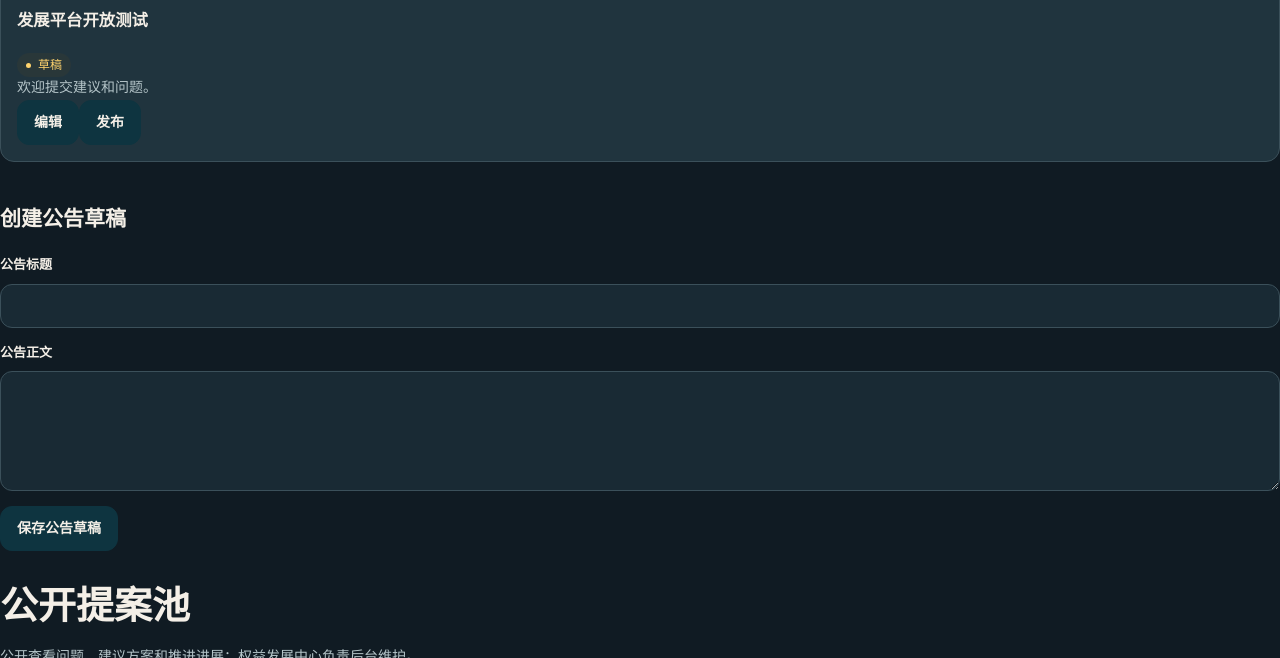
Scenario: InformationPage › shows announcement lifecycle and consultation handling actions to a manager
The image size is (1280, 658).
Click the button with aria-label "发布 发展平台开放测试". click: (110, 122)
box: [79,100,141,145]
(page scrolled)
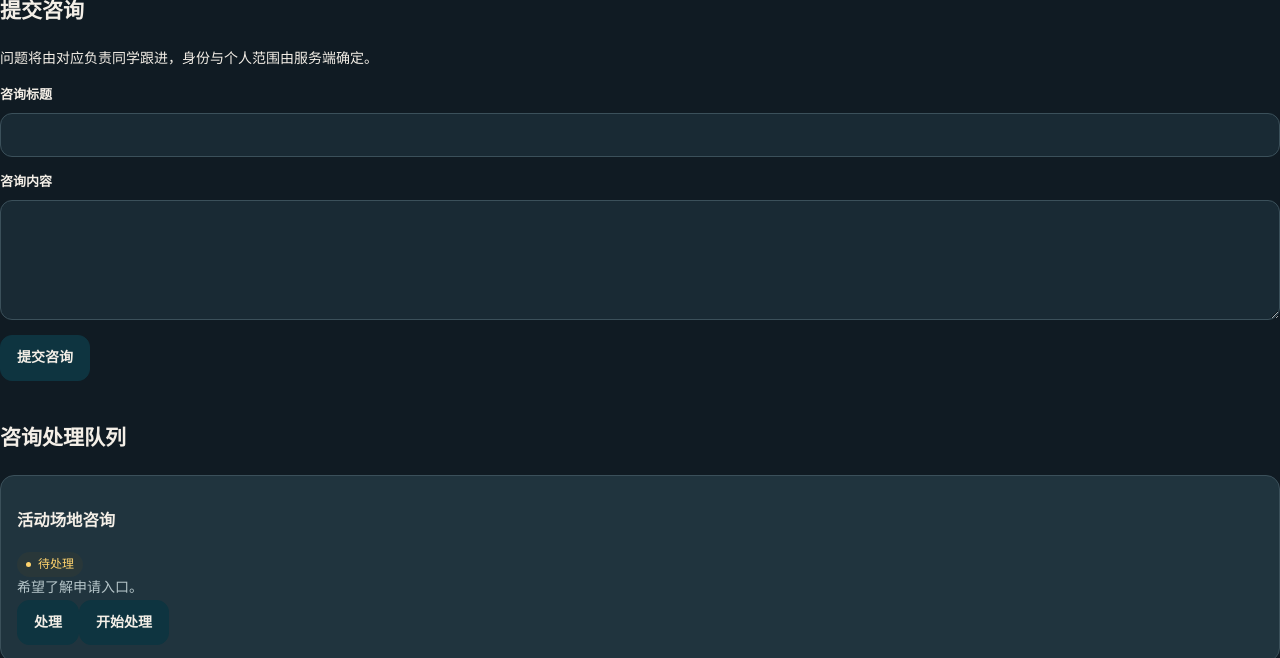
Click the button with aria-label "处理 活动场地咨询". click: (48, 622)
box: [17,600,79,645]
(page scrolled)
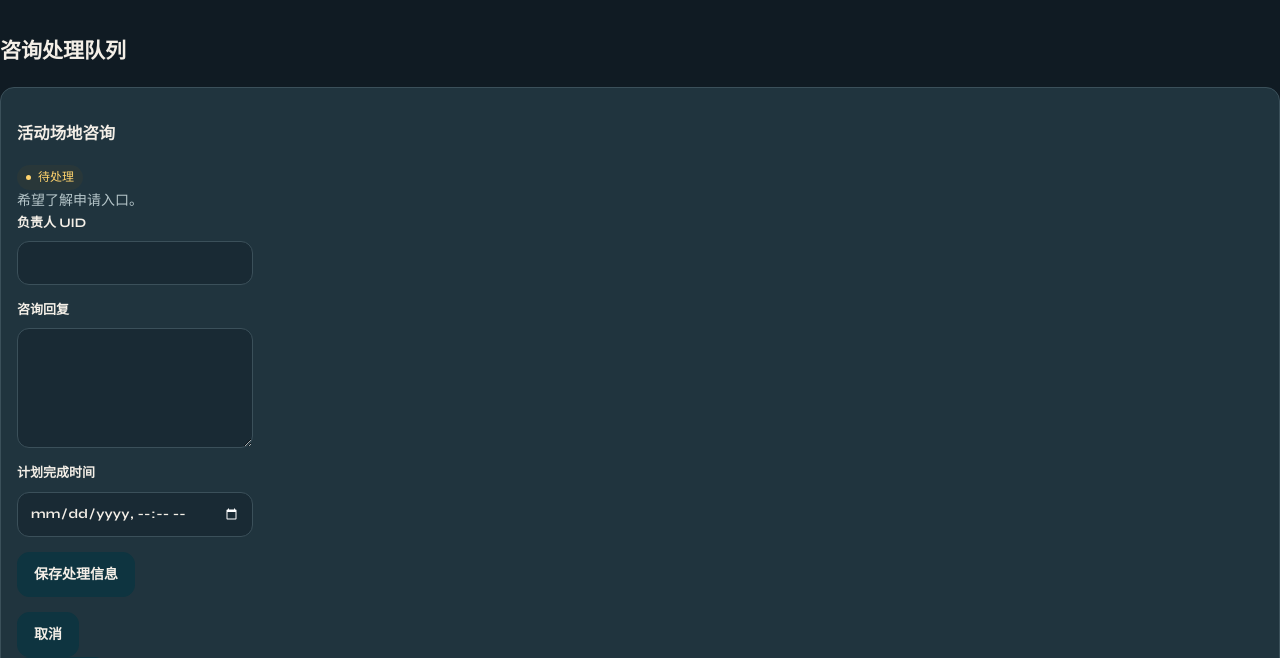
Type "demo-admin" into the field labelled "负责人 UID". click: (135, 263)
box: [17,241,253,285]
Type "请在服务台提交材料。" into the text box labelled "咨询回复". click: (135, 388)
box: [17,328,253,448]
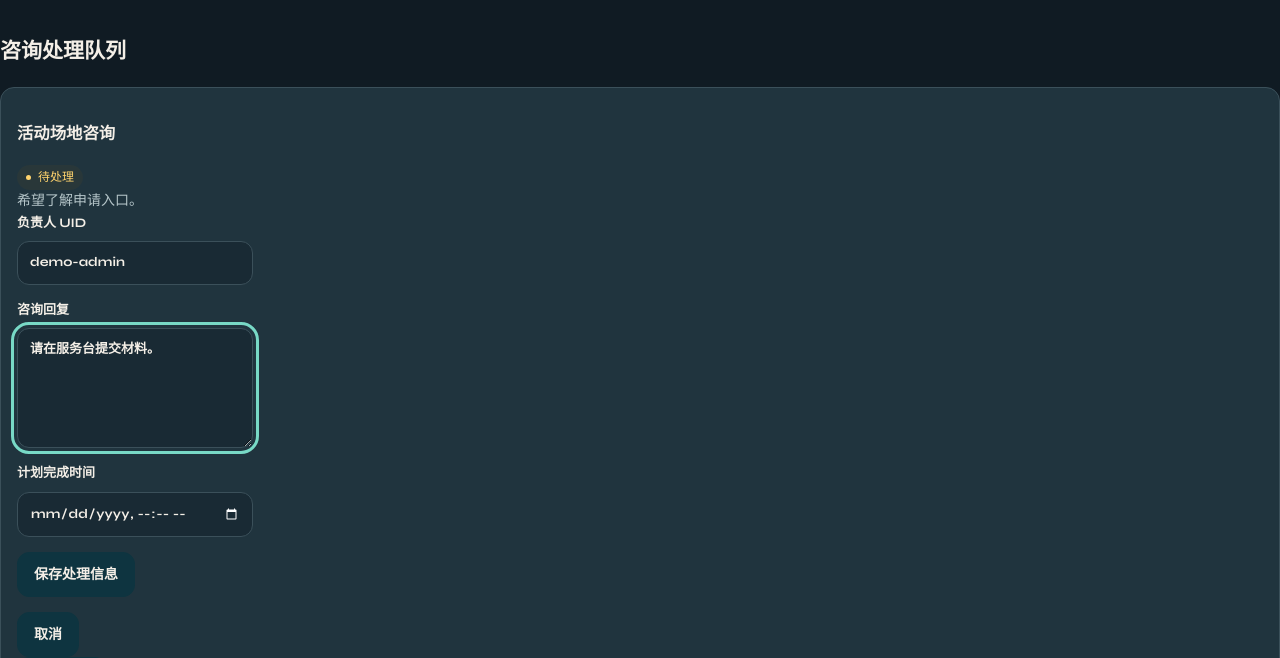
Type "2026-09-20T16:00" into the field labelled "计划完成时间". click: (135, 515)
box: [17,492,253,537]
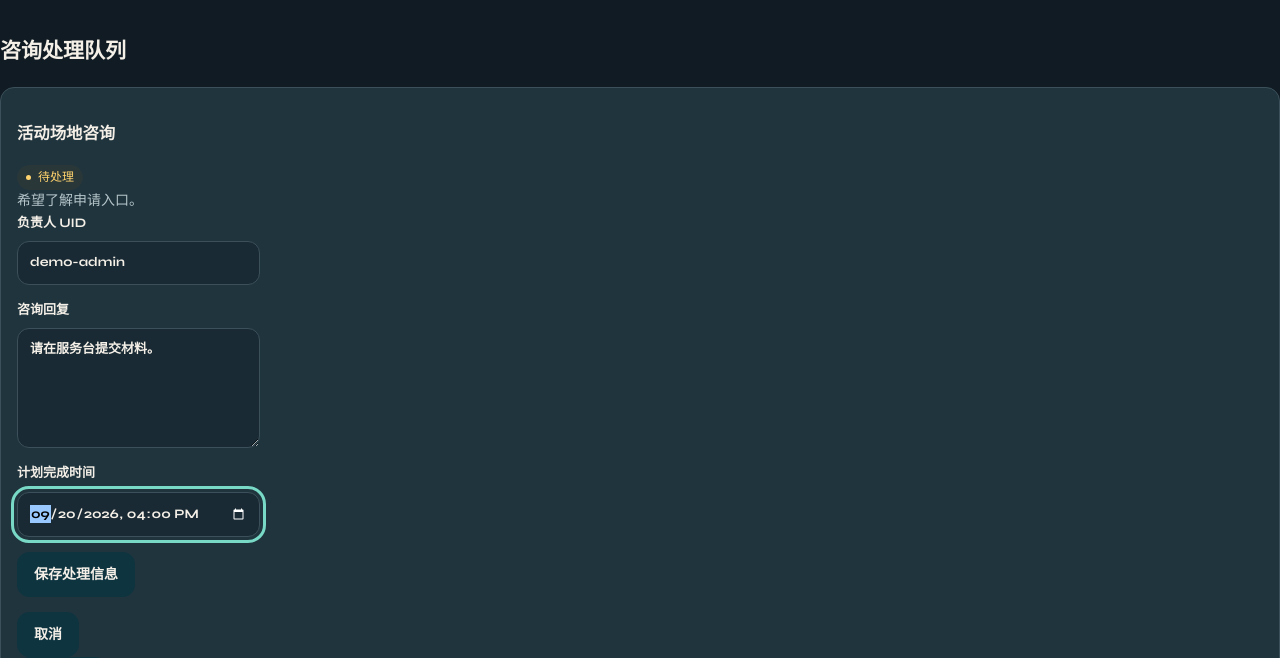
Click the button "保存处理信息". click: (76, 575)
box: [17,552,135,597]
(page scrolled)
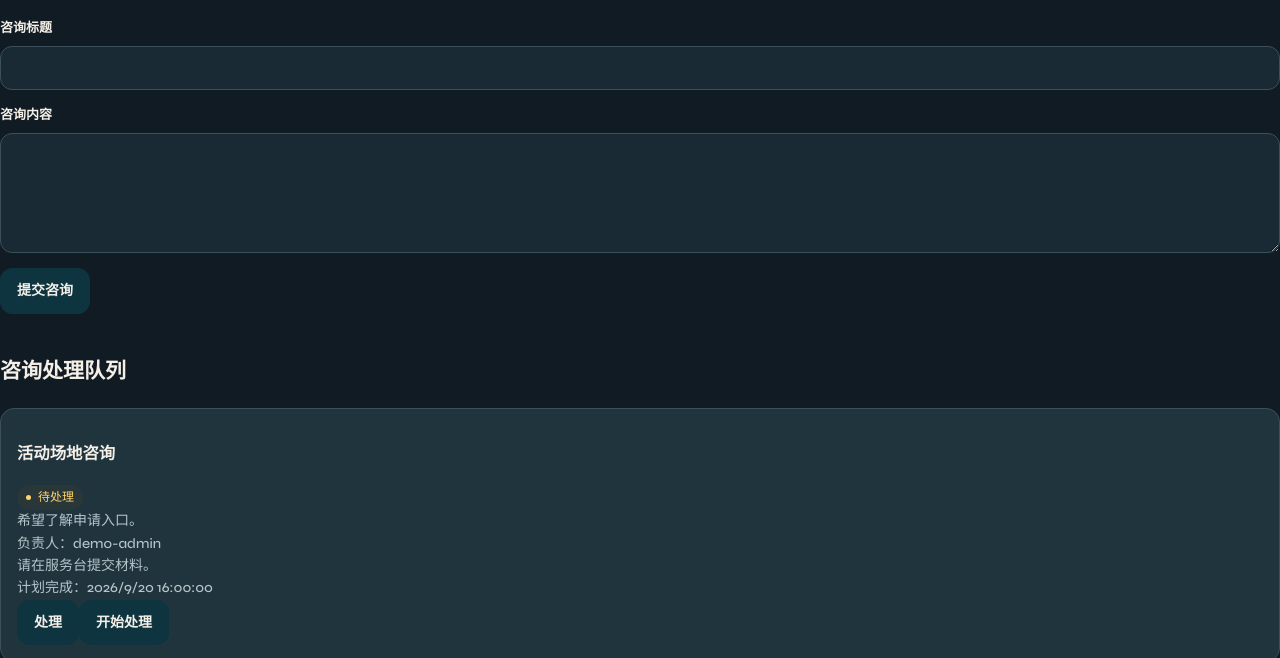
Expected: the text "请在服务台提交材料。" is shown, [17,557,157,574]
Click the button with aria-label "开始处理 活动场地咨询". click: (124, 622)
box: [79,600,169,645]
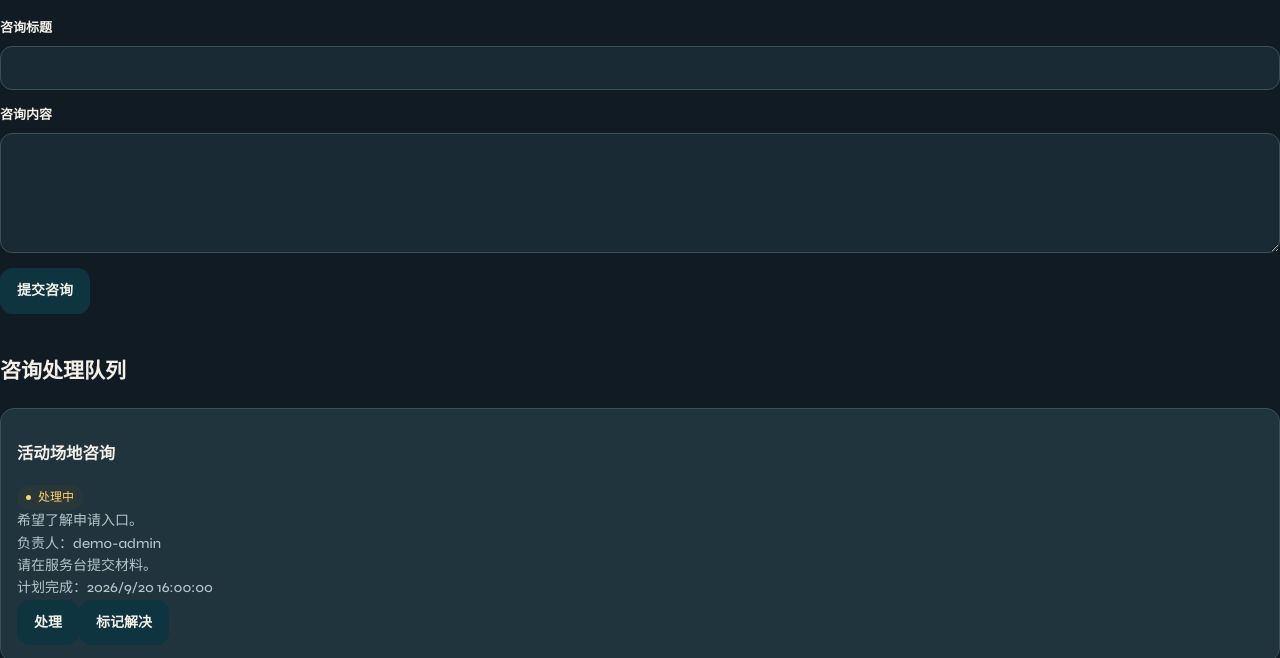
Expected: the text "处理中" is shown, [17,486,83,510]
